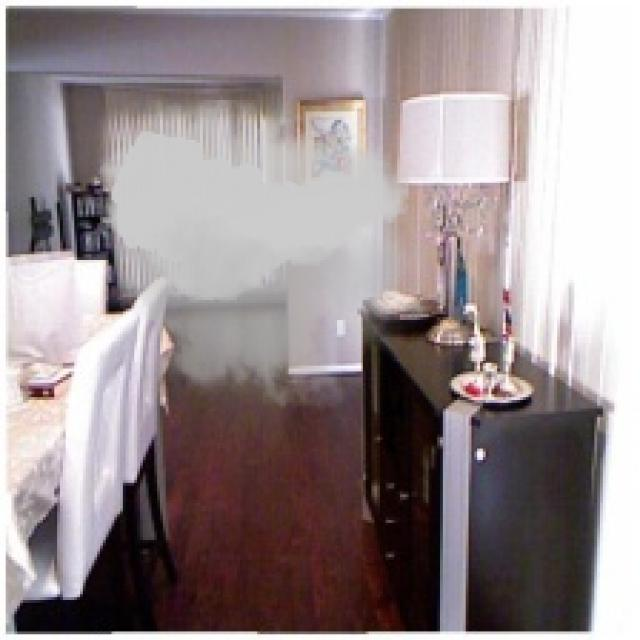smoke: (89, 71, 432, 428)
